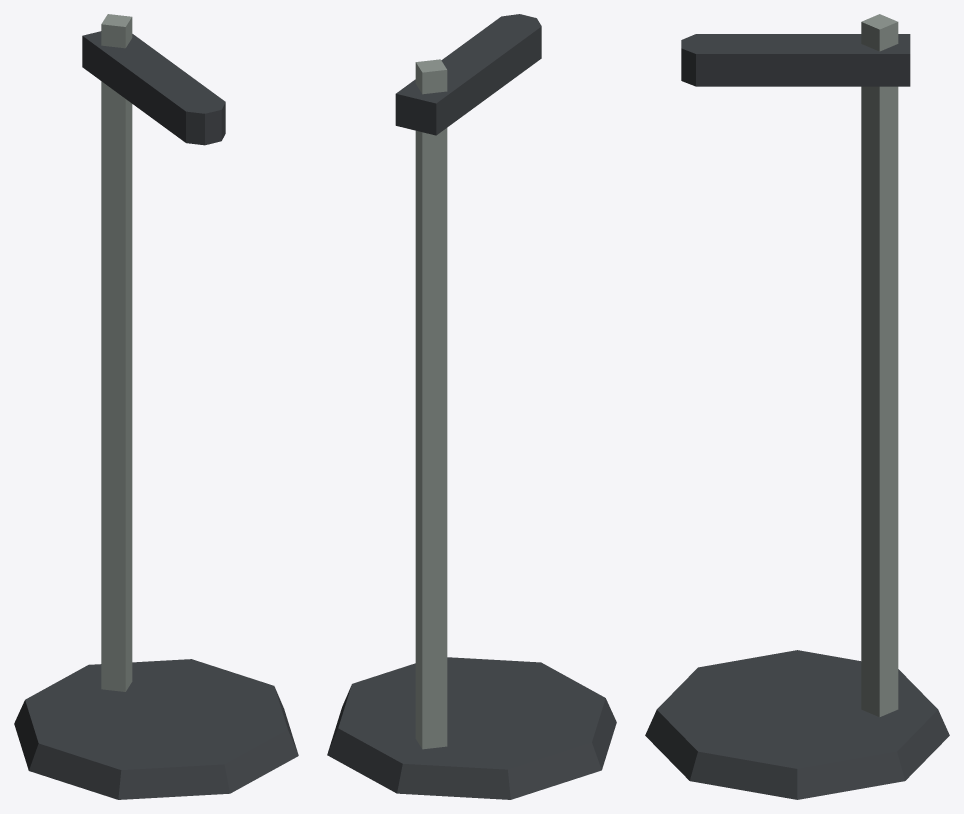
File: SM_Prop_Music_Headphone_Stand_02.obj
3 renders of one model, left to right at view 1: azimuth 30°, elevation 25°; view 2: azimuth 150°, elevation 25°; view 3: azimuth 270°, elevation 25°, orthographic. The views are drawn at different scales.
Visible parts, largest first — view 1: SM_Prop_Music_Headphone_Stand_02_0; view 2: SM_Prop_Music_Headphone_Stand_02_0; view 3: SM_Prop_Music_Headphone_Stand_02_0.
Part boxes in pixels (x1,y1,x2,y2): SM_Prop_Music_Headphone_Stand_02_0: (14, 14, 298, 799); SM_Prop_Music_Headphone_Stand_02_0: (327, 14, 616, 799); SM_Prop_Music_Headphone_Stand_02_0: (645, 14, 949, 799).
Size of the model in its own units: 0.2121 by 0.548 by 0.2121.
Materials: 1 (1 with a texture image).
